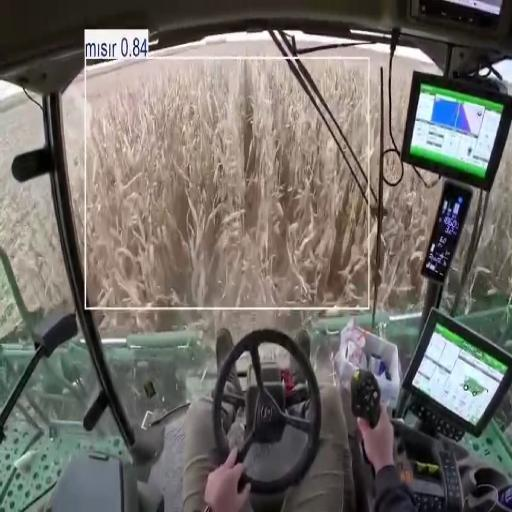misir: (63, 61, 373, 305), (0, 94, 71, 308), (307, 61, 380, 189), (379, 171, 436, 308)
